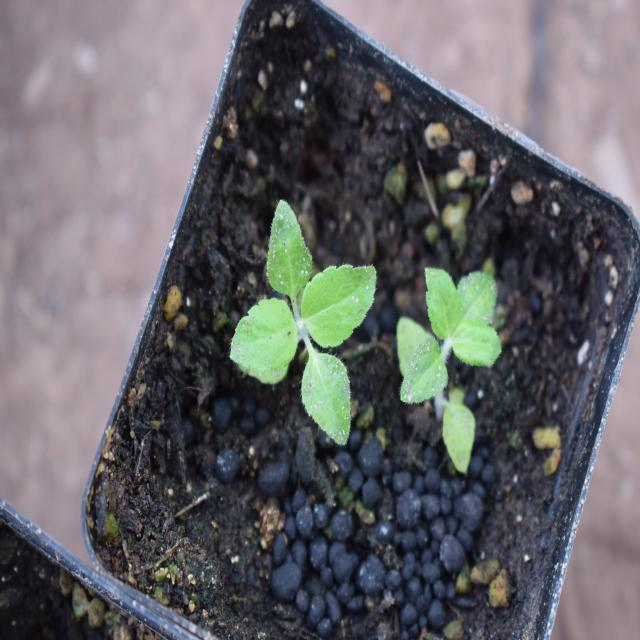billygoat_weed: (232, 180, 366, 437), (372, 250, 515, 459)
